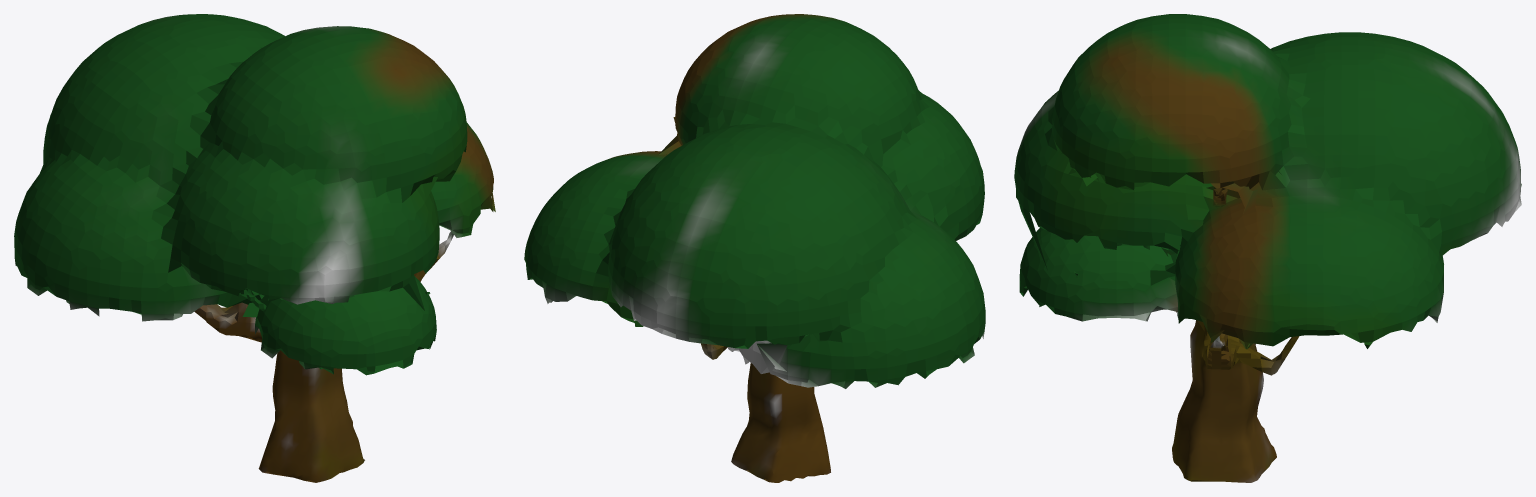
Rendered from Domed_1.glb.
3 views of the same model, side by side, from view 1: azimuth 30°, elevation 25°; view 2: azimuth 150°, elevation 25°; view 3: azimuth 270°, elevation 25° (orthographic). The views are drawn at different scales.
Visible parts, largest first — view 1: Domed_1; view 2: Domed_1; view 3: Domed_1.
Part boxes in pixels (<box>): Domed_1: <box>14,14,495,482</box>; Domed_1: <box>524,14,985,482</box>; Domed_1: <box>1014,14,1521,482</box>.
Size of the model in its own units: 4.46 by 4.26 by 4.43.
